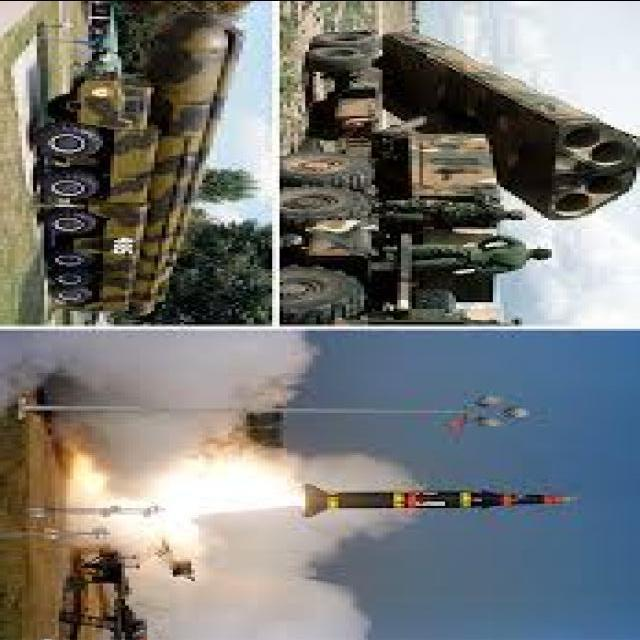Missile: (298, 482, 578, 518)
